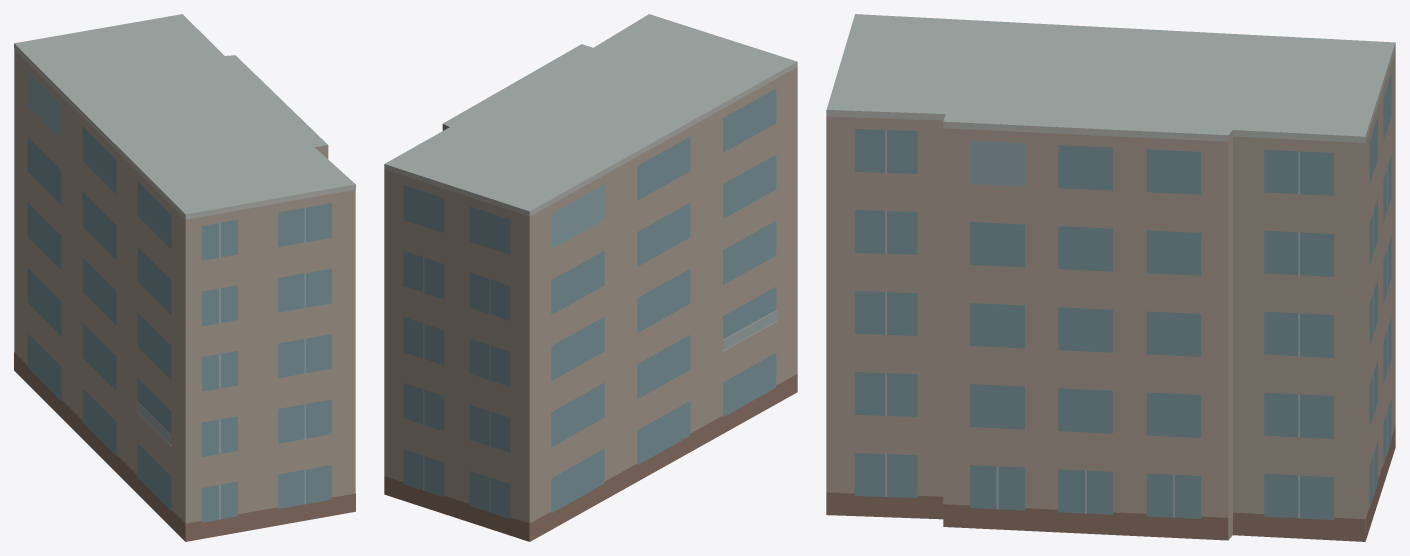
File: survey-upis-32738086.glb
3 renders of one model, left to right at view 1: azimuth 30°, elevation 25°; view 2: azimuth 150°, elevation 25°; view 3: azimuth 270°, elevation 25°, orthographic. The views are drawn at different scales.
Parts seen in each view (by area): view 1: survey-upis-32738086.tmp; view 2: survey-upis-32738086.tmp; view 3: survey-upis-32738086.tmp.
Part boxes in pixels (x1,y1,x2,y2): survey-upis-32738086.tmp: (14, 14, 355, 541); survey-upis-32738086.tmp: (384, 14, 797, 541); survey-upis-32738086.tmp: (826, 14, 1395, 541).
Bounding box in the file's own units: 9.92 × 15.25 × 19.42.
